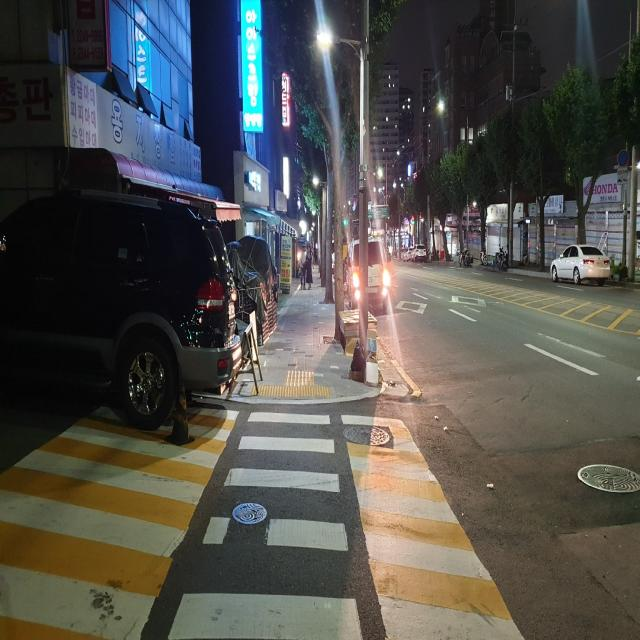횡단보도: (166, 409, 364, 640)
